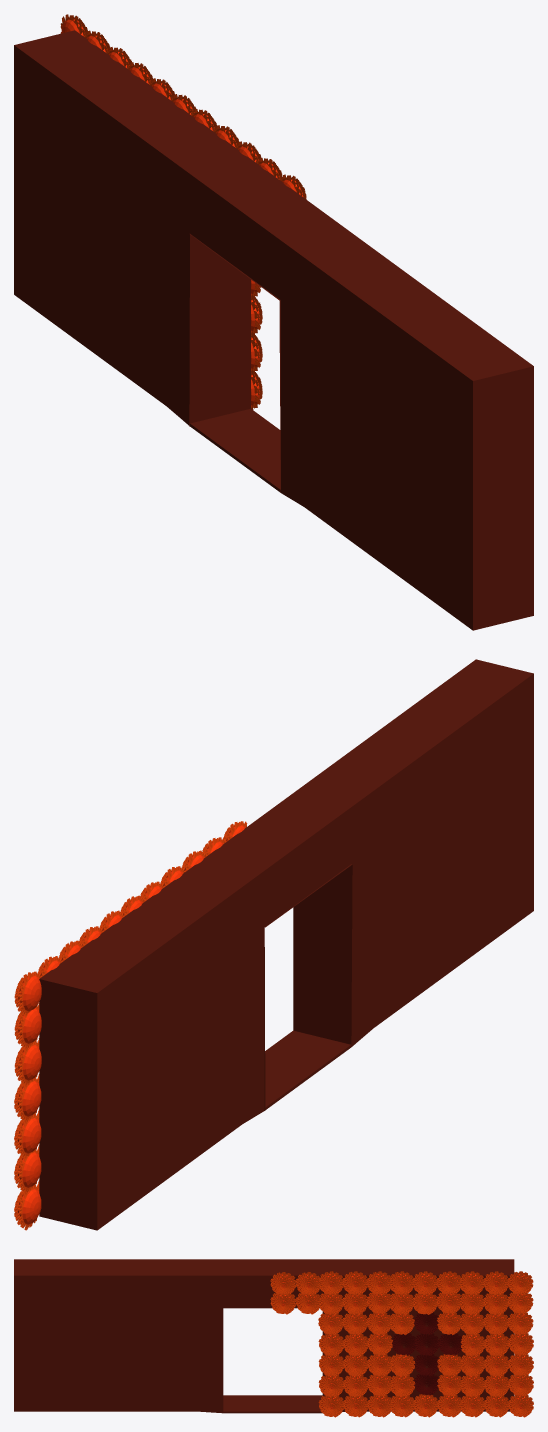
Rendered from entrada2.obj.
3 renders of one model, top to bottom at view 1: azimuth 30°, elevation 25°; view 2: azimuth 150°, elevation 25°; view 3: azimuth 270°, elevation 25°, orthographic. The views are drawn at different scales.
Visible parts, largest first — view 1: Cubo.002; view 2: Cubo.002, Plano.076, Plano.082, Plano.069, Plano.074, Plano.070, Plano.079, Plano.075; view 3: Cubo.002, Plano.007, Plano.078, Plano.099, Plano.129, Plano.009, Plano.076, Plano.120, Plano.126, Plano.087, Plano.101, Plano.074 (+56 smaller).
Boxes of the visible parts, left/top/right/bottom form: Cubo.002: left=14, top=30, right=533, bottom=630; Cubo.002: left=39, top=659, right=533, bottom=1230; Plano.076: left=14, top=971, right=41, bottom=1015; Plano.082: left=14, top=1185, right=41, bottom=1230; Plano.069: left=14, top=1077, right=41, bottom=1121; Plano.074: left=14, top=1113, right=41, bottom=1158; Plano.070: left=14, top=1040, right=41, bottom=1085; Plano.079: left=14, top=1148, right=41, bottom=1193; Plano.075: left=14, top=1004, right=41, bottom=1049; Cubo.002: left=14, top=1259, right=514, bottom=1413; Plano.007: left=270, top=1272, right=296, bottom=1295; Plano.078: left=483, top=1271, right=508, bottom=1295; Plano.099: left=413, top=1271, right=437, bottom=1295; Plano.129: left=319, top=1271, right=343, bottom=1295; Plano.009: left=296, top=1272, right=320, bottom=1295; Plano.076: left=508, top=1271, right=533, bottom=1294; Plano.120: left=343, top=1271, right=367, bottom=1295; Plano.126: left=318, top=1333, right=344, bottom=1356; Plano.087: left=460, top=1271, right=484, bottom=1295; Plano.101: left=413, top=1394, right=438, bottom=1417; Plano.074: left=508, top=1354, right=533, bottom=1376.
Bounding box in the file's own units: 0.1888 × 0.636 × 2.06.
